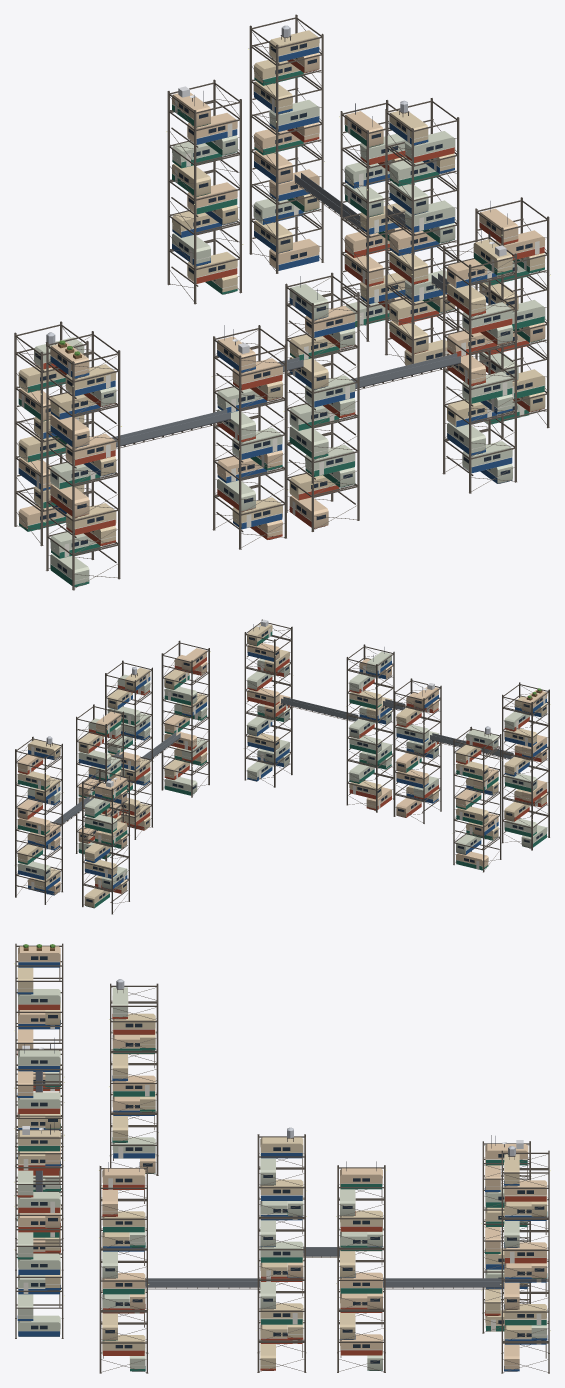
The picture shows the model from 3 angles, top to bottom: view 1: azimuth 30°, elevation 25°; view 2: azimuth 150°, elevation 25°; view 3: azimuth 270°, elevation 25°; orthographic projection. The views are drawn at different scales.
Visible parts, largest first — view 1: vertical_towers_b.lod1; view 2: vertical_towers_b.lod1; view 3: vertical_towers_b.lod1.
Boxes of the visible parts, box(x1,y1,x2,y2) form: vertical_towers_b.lod1: box(14, 14, 550, 590); vertical_towers_b.lod1: box(14, 619, 550, 914); vertical_towers_b.lod1: box(14, 943, 550, 1373).
Bounding box in the file's own units: 85.57 × 40.01 × 85.02.
